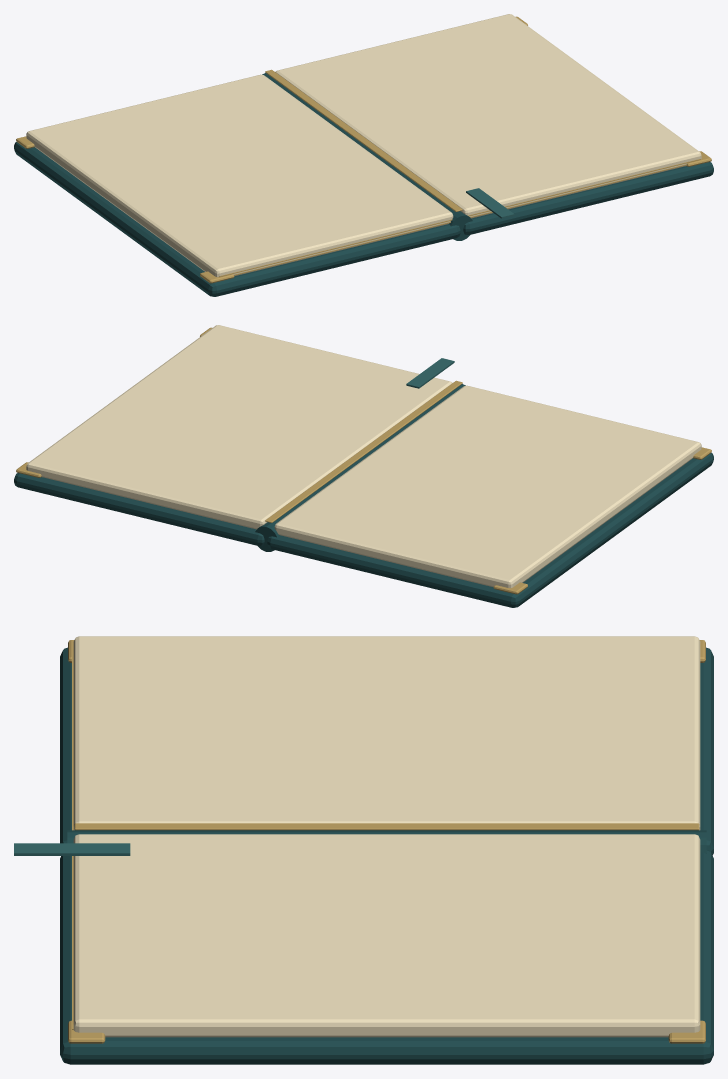
File: field_book.glb
3 renders of one model, top to bottom at view 1: azimuth 30°, elevation 25°; view 2: azimuth 150°, elevation 25°; view 3: azimuth 270°, elevation 25°, orthographic. The views are drawn at different scales.
Visible parts, largest first — view 1: Bound paper block, Bound paper block.001, Cloth hard cover, Cloth hard cover.001, Binding crease, Rounded cloth spine, Ribbon bookmark; view 2: Bound paper block, Bound paper block.001, Cloth hard cover, Cloth hard cover.001, Binding crease, Rounded cloth spine, Ribbon bookmark; view 3: Bound paper block.001, Bound paper block, Cloth hard cover.001, Binding crease, Cloth hard cover, Rounded cloth spine, Ribbon bookmark.
Part boxes in pixels (x1,y1,x2,y2): Bound paper block: (26,74,453,277); Bound paper block.001: (275,14,701,218); Cloth hard cover: (14,142,460,296); Cloth hard cover.001: (463,162,713,234); Binding crease: (265,69,462,211); Rounded cloth spine: (262,73,472,240); Ribbon bookmark: (466,188,514,218); Bound paper block: (274,385,701,588); Bound paper block.001: (26,325,452,529); Cloth hard cover: (267,453,713,607); Cloth hard cover.001: (14,473,264,545); Binding crease: (265,380,462,522); Rounded cloth spine: (255,384,465,551); Ribbon bookmark: (406,358,454,388); Bound paper block.001: (73,834,700,1037); Bound paper block: (73,636,700,830); Cloth hard cover.001: (60,850,713,1064); Binding crease: (74,823,699,830); Cloth hard cover: (60,647,713,855); Rounded cloth spine: (67,830,706,853); Ribbon bookmark: (14,843,130,855).
Bounding box in the file's own units: 5.9 × 0.334 × 4.34.
